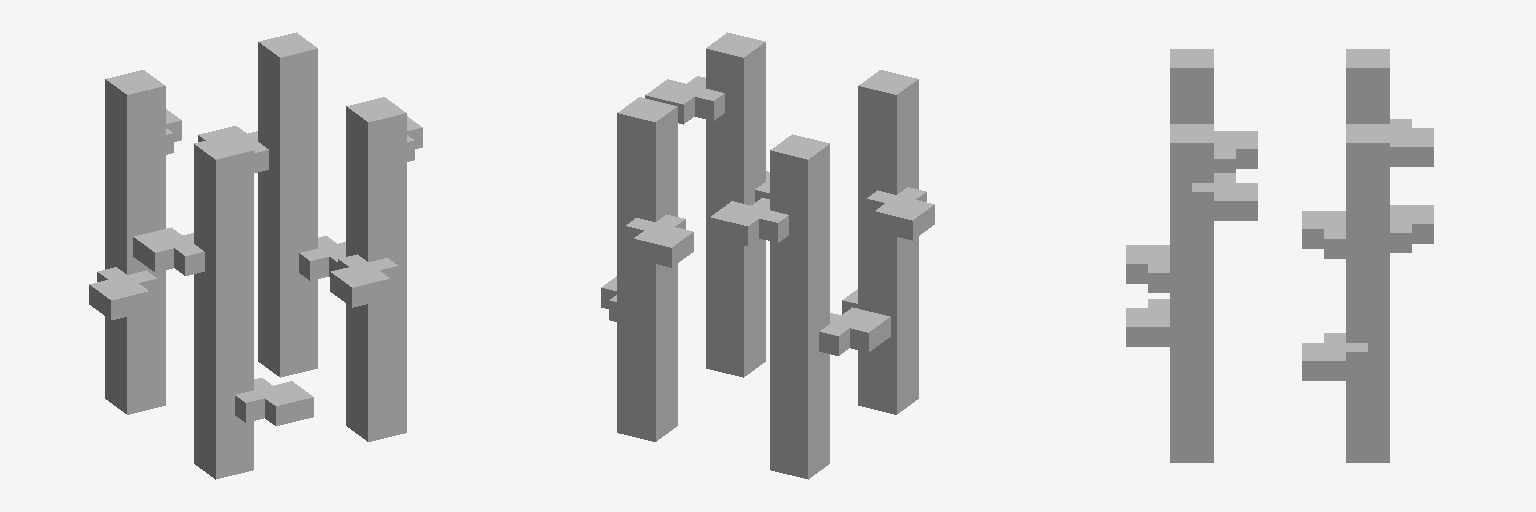
The model's file is vine.obj.
3 renders of one model, left to right at view 1: azimuth 30°, elevation 25°; view 2: azimuth 150°, elevation 25°; view 3: azimuth 270°, elevation 25°, orthographic.
Parts seen in each view (by area): view 1: model; view 2: model; view 3: model.
Boxes of the visible parts, x1,y1,x2,y2 form: model: [89, 32, 422, 479]; model: [601, 32, 934, 479]; model: [1126, 49, 1433, 462].
Bounding box in the file's own units: 0.875 × 1 × 0.875.